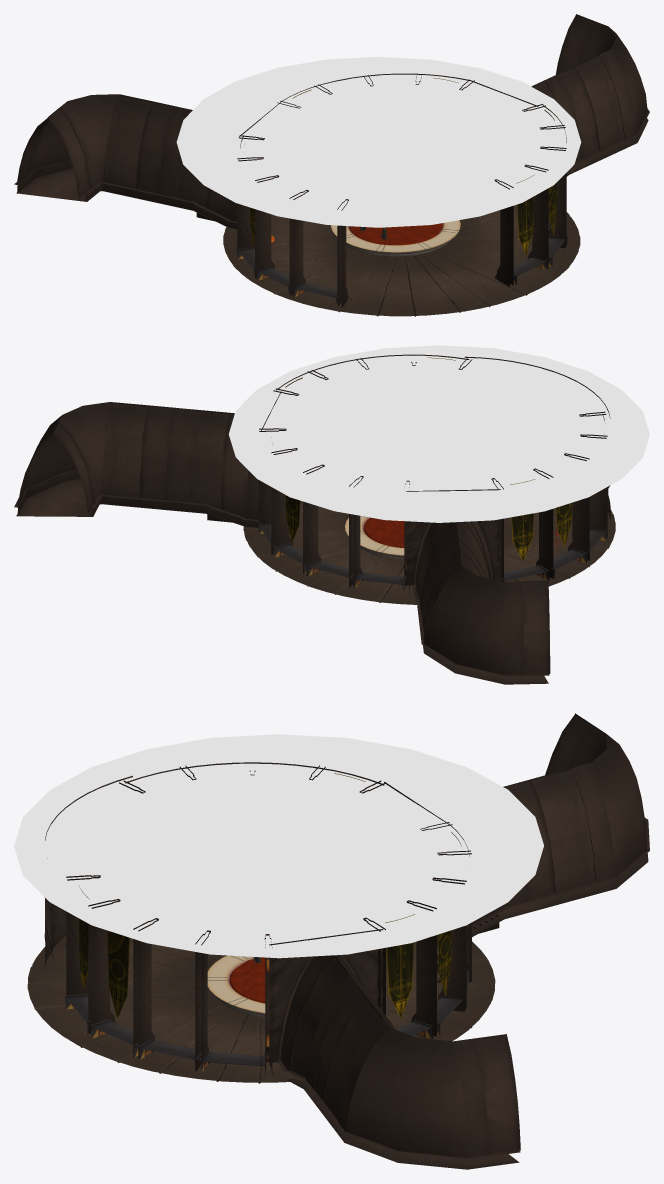
The model's file is env_geo_command_center_pre.glb.
3 renders of one model, top to bottom at view 1: azimuth 30°, elevation 25°; view 2: azimuth 150°, elevation 25°; view 3: azimuth 270°, elevation 25°, orthographic. The views are drawn at different scales.
Parts seen in each view (by area): view 1: cor_jcc_floor_mesh, geo_arch_wall_03_mesh, geo_arch_wall_03_mesh (1), geo_floor_02_mesh (3), geo_floor_02_mesh (2), geo_floor_02_mesh, geo_pillar_03_cluster_mesh (2), geo_pillar_03_cluster_mesh (1), geo_holotable_01a_mesh, geo_holotable_01b_mesh, geo_holoflag_01d_mesh (1), geo_console_01b_mesh (3) (+1 smaller); view 2: cor_jcc_floor_mesh, geo_arch_wall_03_mesh (1), geo_arch_wall_03_mesh, geo_floor_02_mesh (1), geo_pillar_03_cluster_mesh, geo_pillar_03_cluster_mesh (2), geo_floor_02_mesh, geo_holotable_01b_mesh, geo_floor_02_mesh (3), geo_holoflag_01d_mesh (2), geo_holotable_01a_mesh, geo_holoflag_01c_mesh (2) (+2 smaller); view 3: cor_jcc_floor_mesh, geo_arch_wall_03_mesh (1), geo_arch_wall_03_mesh, geo_floor_02_mesh (2), geo_pillar_03_cluster_mesh (1), geo_floor_02_mesh (3), geo_pillar_03_cluster_mesh, geo_floor_02_mesh (1), geo_holotable_01a_mesh, geo_holoflag_01d_mesh, geo_holoflag_01c_mesh (1), geo_holotable_01b_mesh (+5 smaller).
Boxes of the visible parts, box(x1,y1,x2,y2) form: cor_jcc_floor_mesh: box(176, 56, 581, 227); geo_arch_wall_03_mesh: box(14, 94, 280, 229); geo_arch_wall_03_mesh (1): box(471, 14, 649, 176); geo_floor_02_mesh (3): box(275, 252, 525, 316); geo_floor_02_mesh (2): box(429, 204, 580, 295); geo_floor_02_mesh: box(223, 214, 369, 294); geo_pillar_03_cluster_mesh (2): box(237, 135, 348, 307); geo_pillar_03_cluster_mesh (1): box(494, 104, 566, 286); geo_holotable_01a_mesh: box(331, 220, 460, 254); geo_holotable_01b_mesh: box(349, 223, 442, 245); geo_holoflag_01d_mesh (1): box(516, 174, 534, 254); geo_console_01b_mesh (3): box(293, 281, 341, 306); cor_jcc_floor_mesh: box(228, 345, 649, 522); geo_arch_wall_03_mesh (1): box(14, 391, 281, 527); geo_arch_wall_03_mesh: box(406, 489, 550, 684); geo_floor_02_mesh (1): box(243, 512, 404, 602); geo_pillar_03_cluster_mesh: box(259, 428, 410, 591); geo_pillar_03_cluster_mesh (2): box(491, 411, 607, 581); geo_floor_02_mesh: box(379, 535, 608, 604); geo_holotable_01b_mesh: box(363, 517, 404, 547); geo_floor_02_mesh (3): box(504, 508, 615, 548); geo_holoflag_01d_mesh (2): box(510, 479, 535, 561); geo_holotable_01a_mesh: box(345, 516, 404, 557); geo_holoflag_01c_mesh (2): box(556, 503, 572, 547); cor_jcc_floor_mesh: box(14, 734, 543, 958); geo_arch_wall_03_mesh (1): box(268, 929, 520, 1169); geo_arch_wall_03_mesh: box(384, 713, 649, 936); geo_floor_02_mesh (2): box(36, 990, 301, 1083); geo_pillar_03_cluster_mesh (1): box(66, 875, 272, 1075); geo_floor_02_mesh (3): box(27, 935, 226, 1009); geo_pillar_03_cluster_mesh: box(363, 822, 471, 1038); geo_floor_02_mesh (1): box(386, 960, 495, 1041); geo_holotable_01a_mesh: box(207, 955, 265, 1015); geo_holoflag_01d_mesh: box(385, 914, 414, 1017); geo_holoflag_01c_mesh (1): box(107, 930, 129, 1018); geo_holotable_01b_mesh: box(229, 957, 265, 1003).
Bounding box in the file's own units: 75.83 × 13.79 × 56.72.
13 materials, 12 textured.
